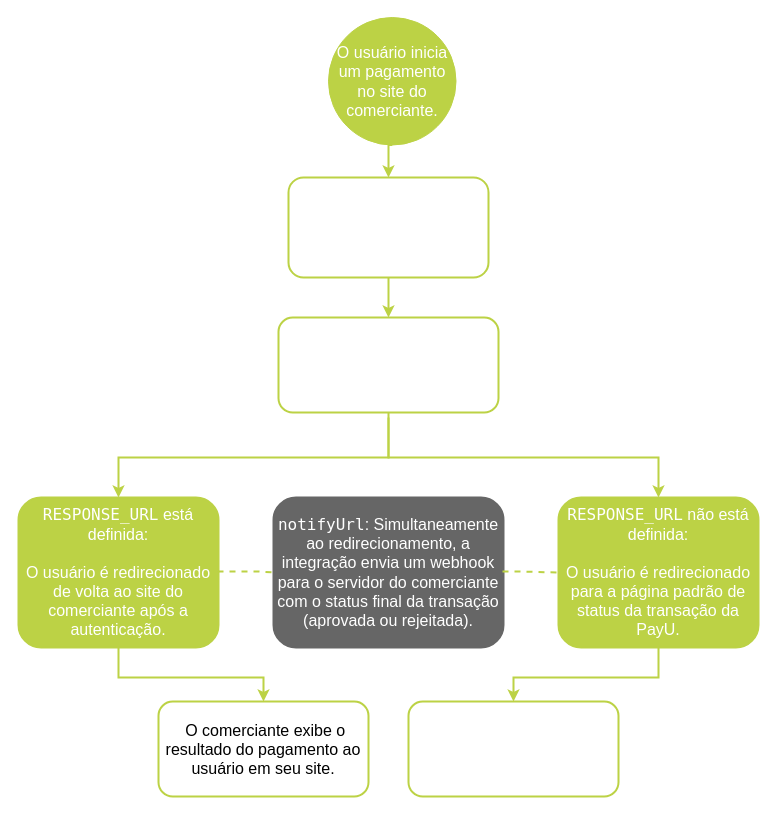
Image size: 776x815. Some labels were removed from this diagram. The shapes that lost their labels are listed below. From the top down, each one's centre as x and y in pixels, then its label:
(x=388, y=227): A PayU processa a transação e solicita autenticação (ex.: desafio 3DS).
(x=388, y=364): A integração verifica se o comerciante definiu uma RESPONSE_URL .
(x=513, y=748): O usuário visualiza o resultado da transação na página de status da PayU.
